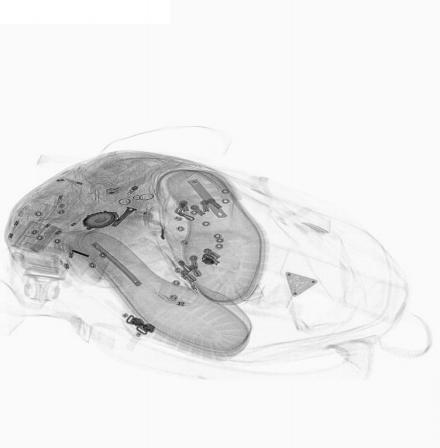Lighter: (103, 175, 153, 196)
